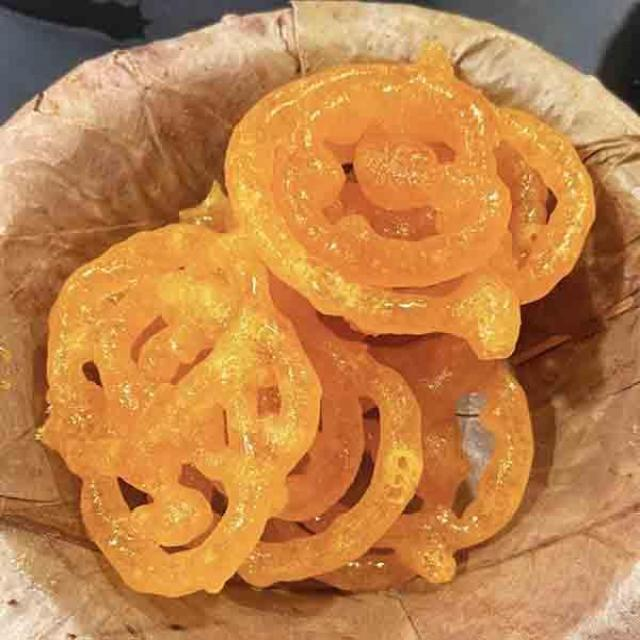jalebi: (32, 234, 526, 604), (233, 43, 567, 348)
